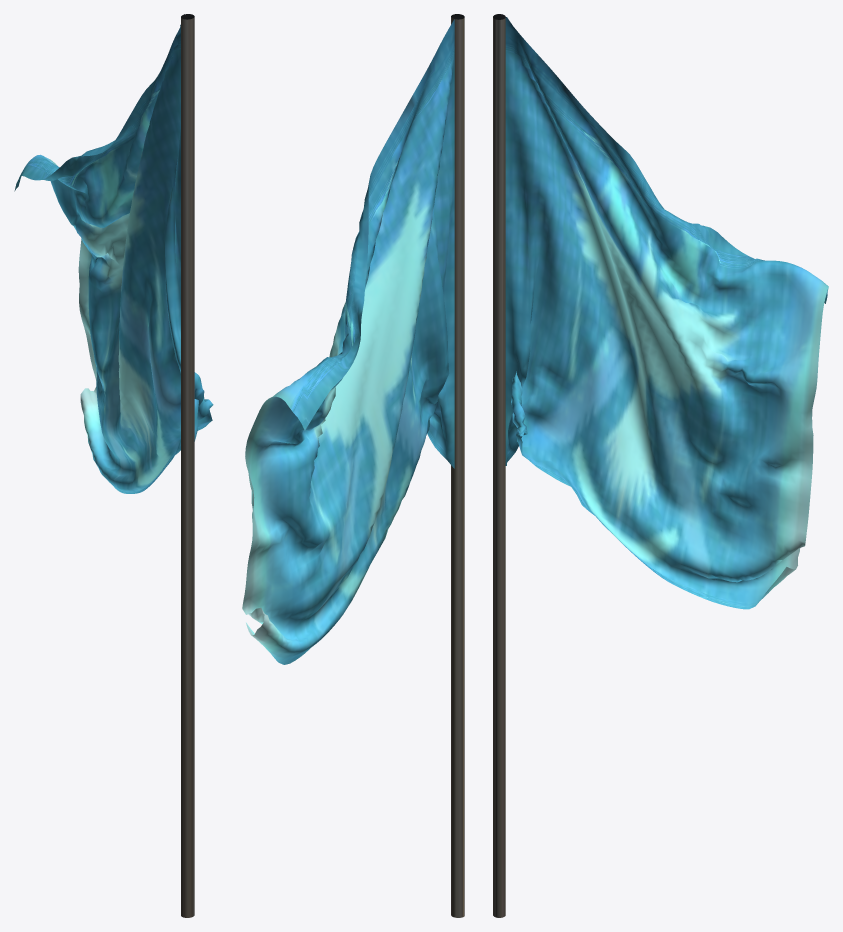
File: bandera_azul.obj
3 views of the same model, side by side, from view 1: azimuth 30°, elevation 25°; view 2: azimuth 150°, elevation 25°; view 3: azimuth 270°, elevation 25° (orthographic).
Parts seen in each view (by area): view 1: BanderaAzul002; view 2: BanderaAzul002; view 3: BanderaAzul002.
Boxes of the visible parts, x1=… form: BanderaAzul002: x1=14, y1=14, x2=213, y2=917; BanderaAzul002: x1=242, y1=14, x2=464, y2=917; BanderaAzul002: x1=493, y1=14, x2=828, y2=917.
Size of the model in its own units: 0.8452 by 8.14 by 2.76.
